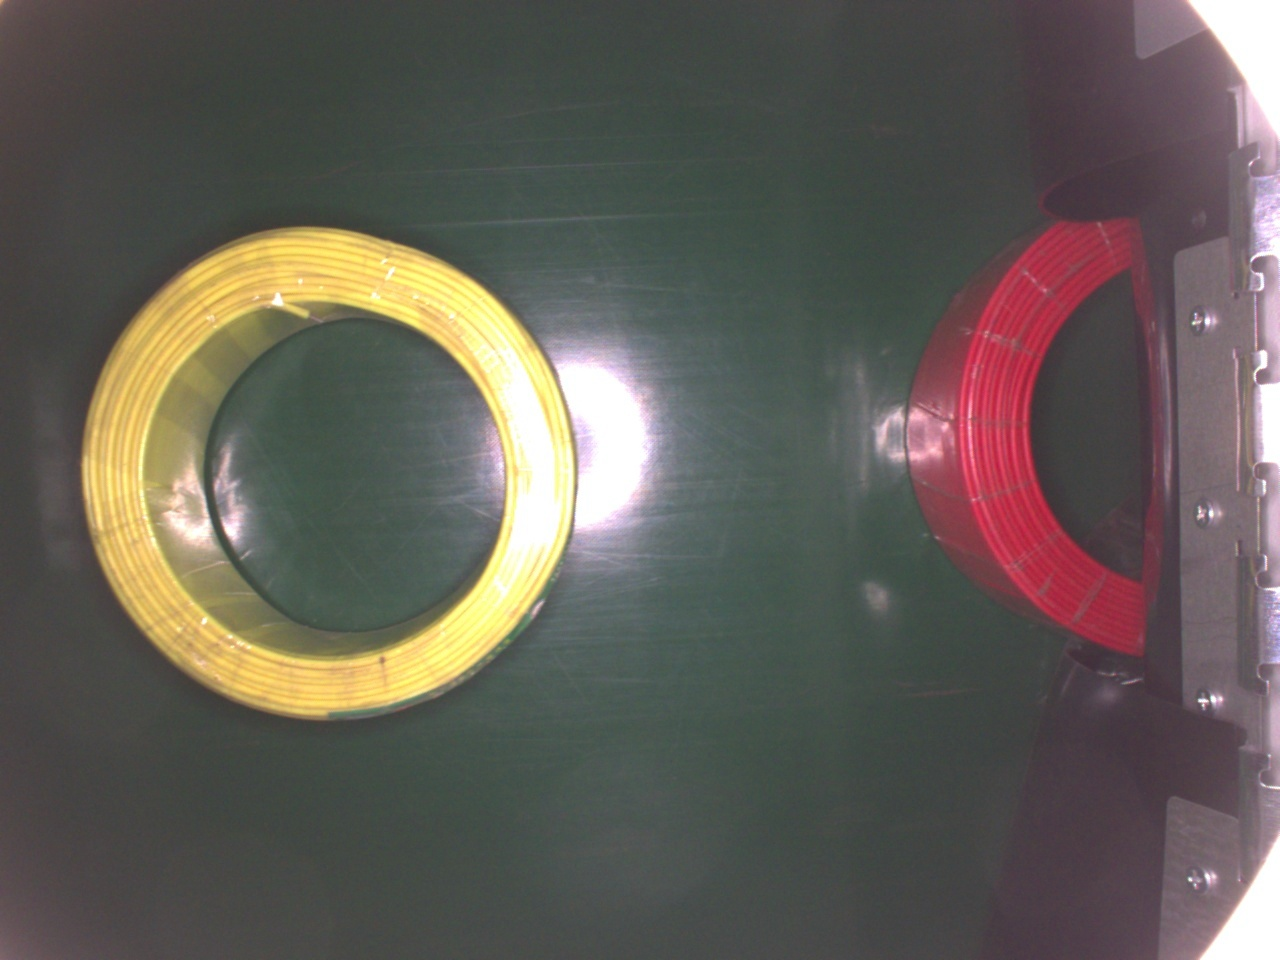red: (901, 220, 1155, 661)
yellow: (82, 226, 574, 729)
